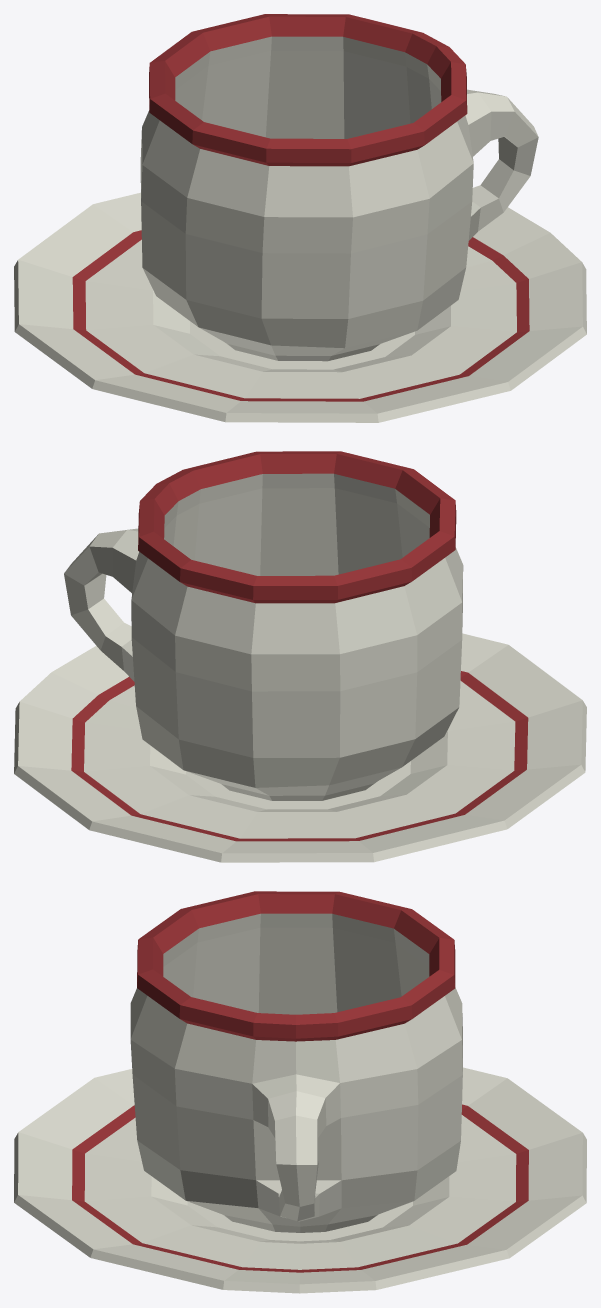
The model's file is Cup_coffee.fbx.
3 renders of one model, top to bottom at view 1: azimuth 30°, elevation 25°; view 2: azimuth 150°, elevation 25°; view 3: azimuth 270°, elevation 25°, orthographic.
Visible parts, largest first — view 1: Cup_coffee; view 2: Cup_coffee; view 3: Cup_coffee.
Boxes of the visible parts, bbox=[...] form: Cup_coffee: bbox=[14, 14, 586, 422]; Cup_coffee: bbox=[14, 451, 586, 862]; Cup_coffee: bbox=[14, 891, 586, 1293].
Bounding box in the file's own units: 0.111 × 0.0557 × 0.1115.
